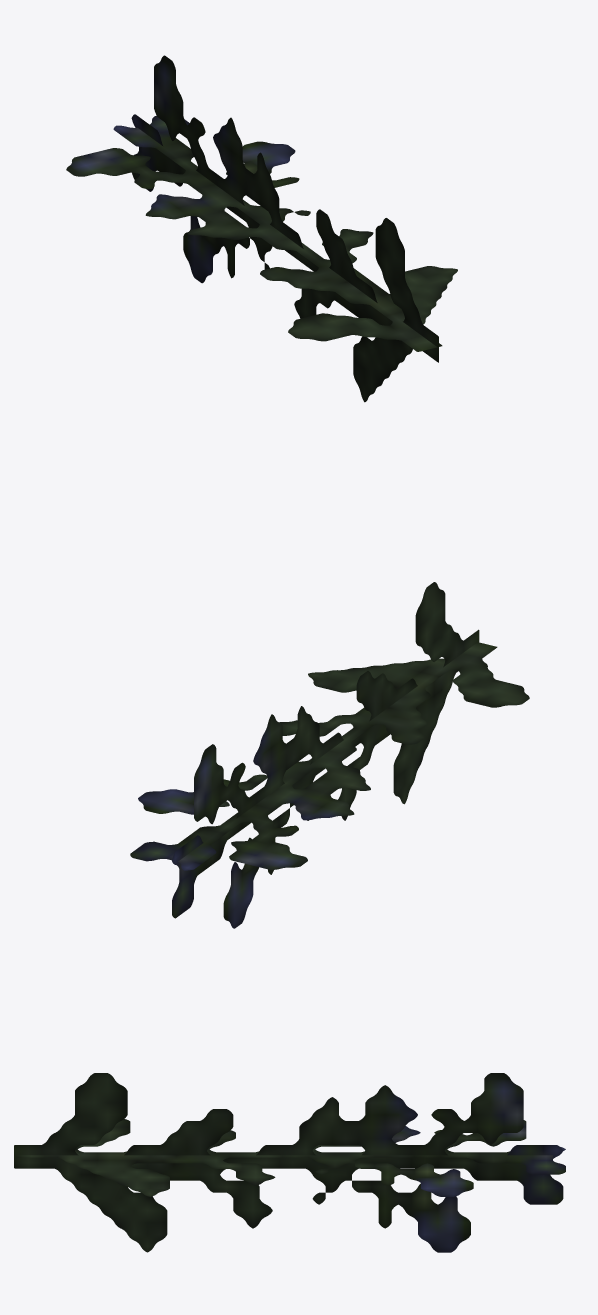
The model's file is SM_EC_Plant_Card_Cross_15.fbx.
3 views of the same model, one above another, from view 1: azimuth 30°, elevation 25°; view 2: azimuth 150°, elevation 25°; view 3: azimuth 270°, elevation 25° (orthographic). The views are drawn at different scales.
Parts seen in each view (by area): view 1: SM_EC_Plant_Card_Cross_15; view 2: SM_EC_Plant_Card_Cross_15; view 3: SM_EC_Plant_Card_Cross_15.
Part boxes in pixels (<box>): SM_EC_Plant_Card_Cross_15: <box>66,55,457,402</box>; SM_EC_Plant_Card_Cross_15: <box>130,582,529,928</box>; SM_EC_Plant_Card_Cross_15: <box>14,1073,565,1252</box>.
Size of the model in its own units: 0.3082 by 0.6745 by 0.3082.
